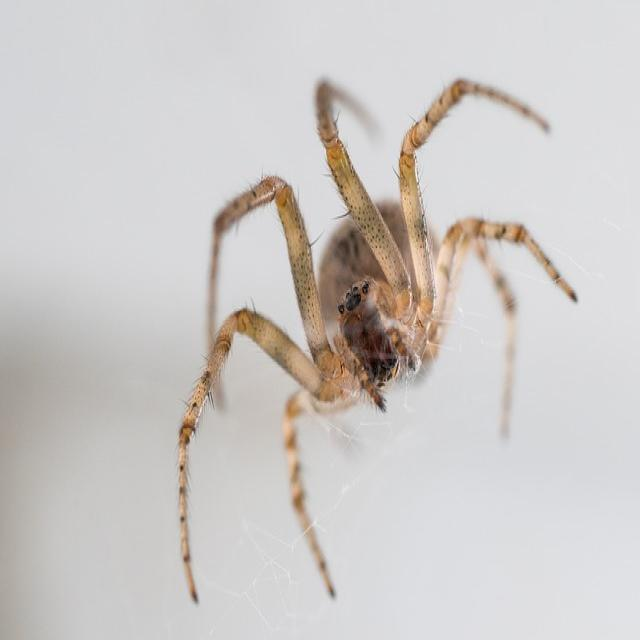spyder: (179, 78, 580, 604)
